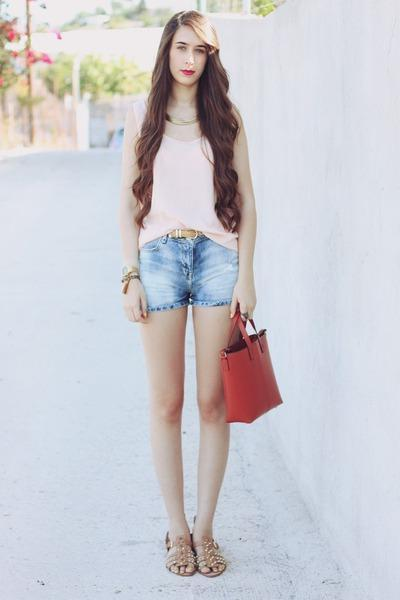Shorts: (122, 230, 254, 316)
vest: (128, 93, 246, 255)
